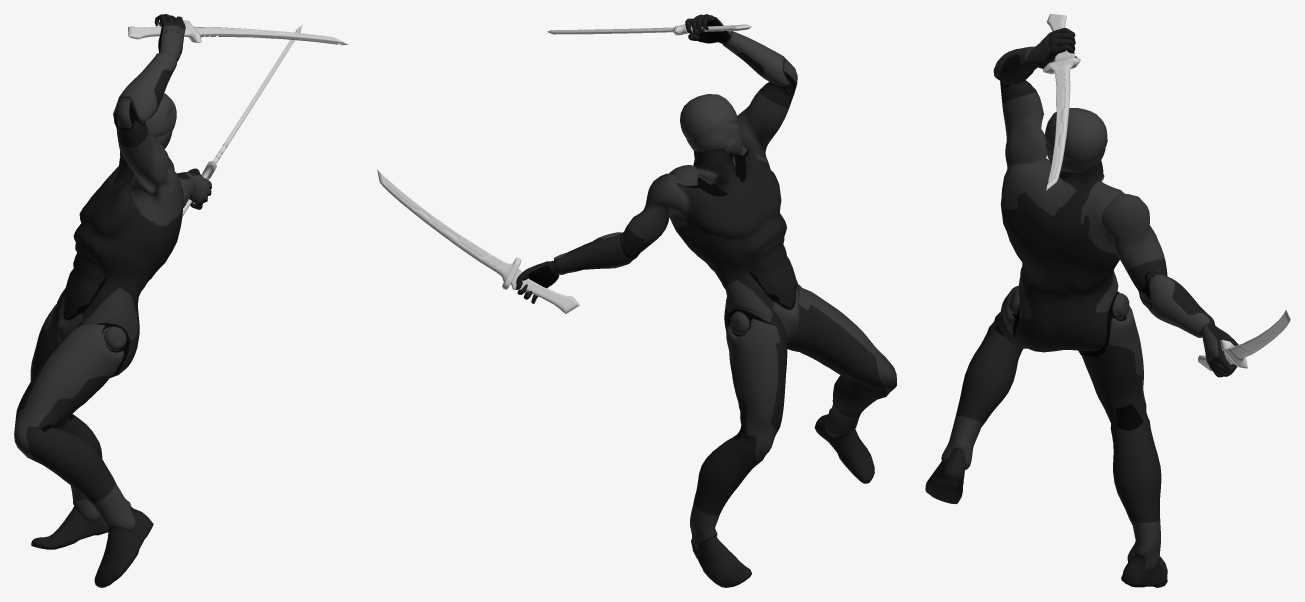
The picture shows the model from 3 angles, left to right: view 1: azimuth 30°, elevation 25°; view 2: azimuth 150°, elevation 25°; view 3: azimuth 270°, elevation 25°; orthographic projection. The views are drawn at different scales.
Parts seen in each view (by area): view 1: Cyborg_Ninja_Killer, Sword_l, Sword_l001; view 2: Cyborg_Ninja_Killer, Sword_l001, Sword_l; view 3: Cyborg_Ninja_Killer, Sword_l, Sword_l001.
Boxes of the visible parts, x1,y1,x2,y2 form: Cyborg_Ninja_Killer: (14,14,211,587); Sword_l: (128,20,348,45); Sword_l001: (182,24,302,216); Cyborg_Ninja_Killer: (515,14,896,587); Sword_l001: (377,169,579,313); Sword_l: (547,24,751,35); Cyborg_Ninja_Killer: (925,28,1238,587); Sword_l: (1042,14,1080,190); Sword_l001: (1198,310,1290,370).
Size of the model in its own units: 165 by 209 by 118.
